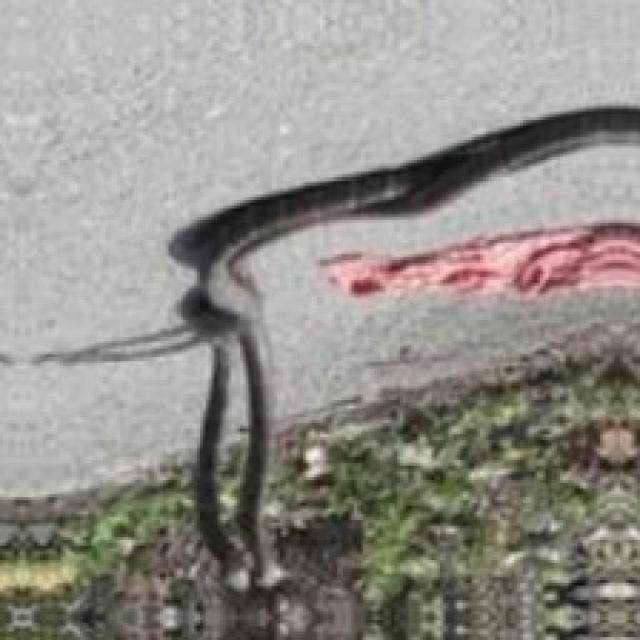king cobra: (31, 106, 637, 637), (329, 223, 637, 297), (329, 426, 420, 569), (0, 491, 111, 554)
